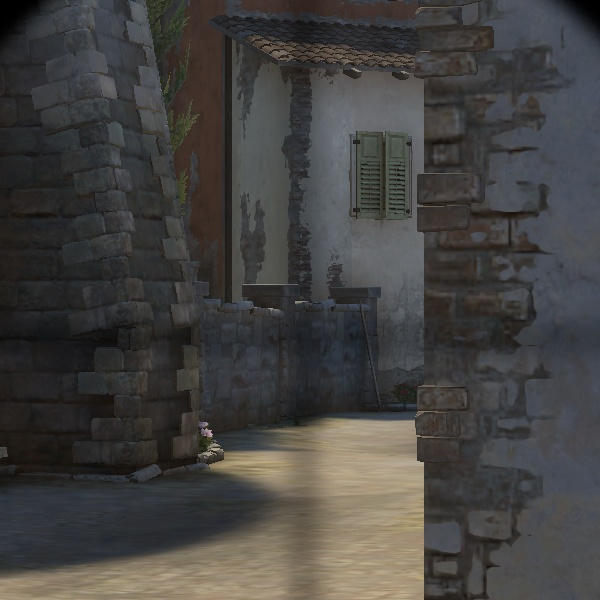ct_body: (189, 422, 226, 463)
